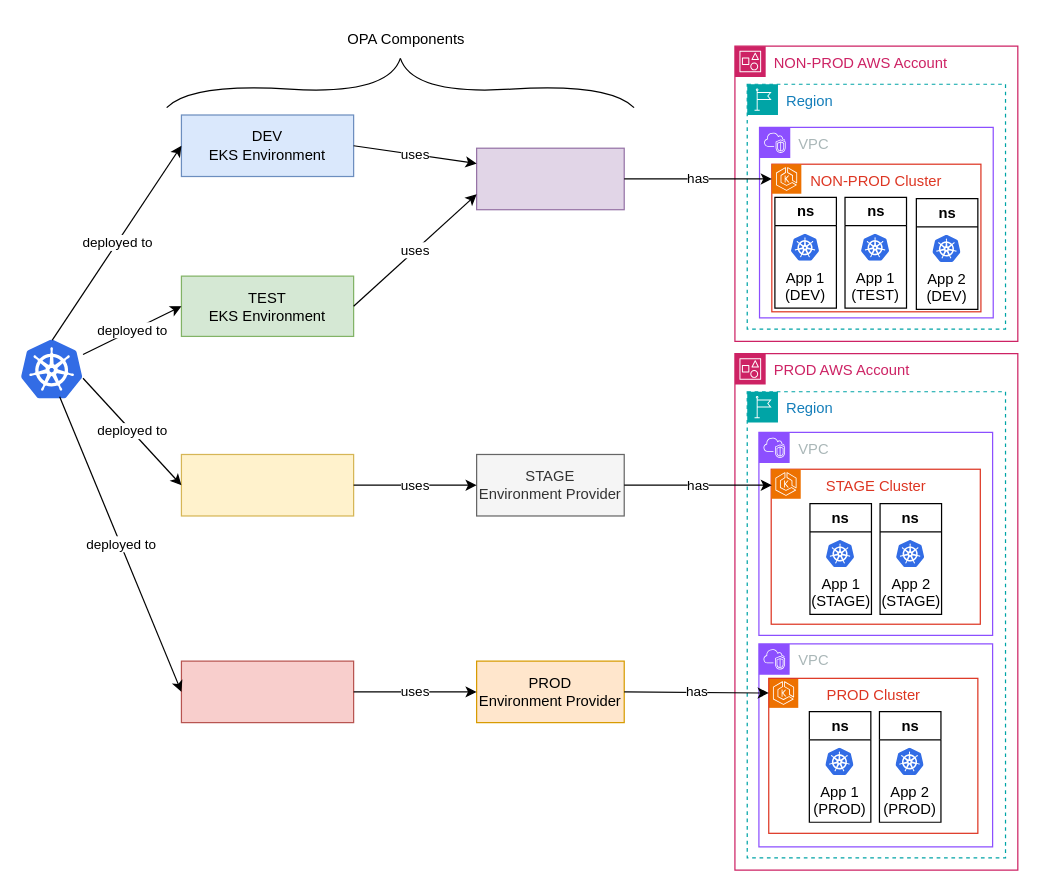
The diagram is 1039 pixels wide and 892 high, and some of its shapes have lost their labels. Here are the shapes that lost their labels. From the top down, the centre of each, then its label:
pixel 549 178: NON-PROD Environment Provider
pixel 51 369: App 1
pixel 267 484: STAGE EKS Environment
pixel 267 691: PROD EKS Environment
